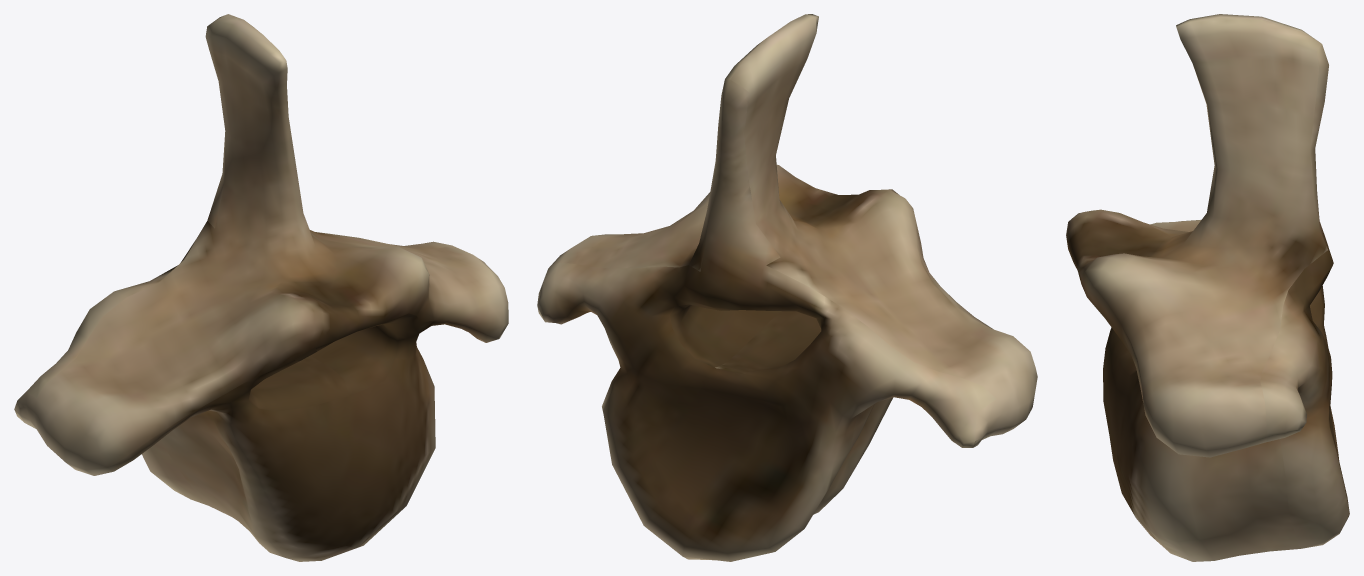
The model's file is Thoracic_Vertebrae14.glb.
The picture shows the model from 3 angles, left to right: view 1: azimuth 30°, elevation 25°; view 2: azimuth 150°, elevation 25°; view 3: azimuth 270°, elevation 25°; orthographic projection. The views are drawn at different scales.
Parts seen in each view (by area): view 1: Horse_low:SelSet_55Merged_L_Frt_Sesamoid_Bones_1; view 2: Horse_low:SelSet_55Merged_L_Frt_Sesamoid_Bones_1; view 3: Horse_low:SelSet_55Merged_L_Frt_Sesamoid_Bones_1.
Part boxes in pixels (x1,y1,x2,y2): Horse_low:SelSet_55Merged_L_Frt_Sesamoid_Bones_1: [14, 14, 508, 561]; Horse_low:SelSet_55Merged_L_Frt_Sesamoid_Bones_1: [537, 14, 1037, 561]; Horse_low:SelSet_55Merged_L_Frt_Sesamoid_Bones_1: [1066, 14, 1349, 561].
Bounding box in the file's own units: 0.1175 × 0.1298 × 0.065.
1 material, 1 textured.
